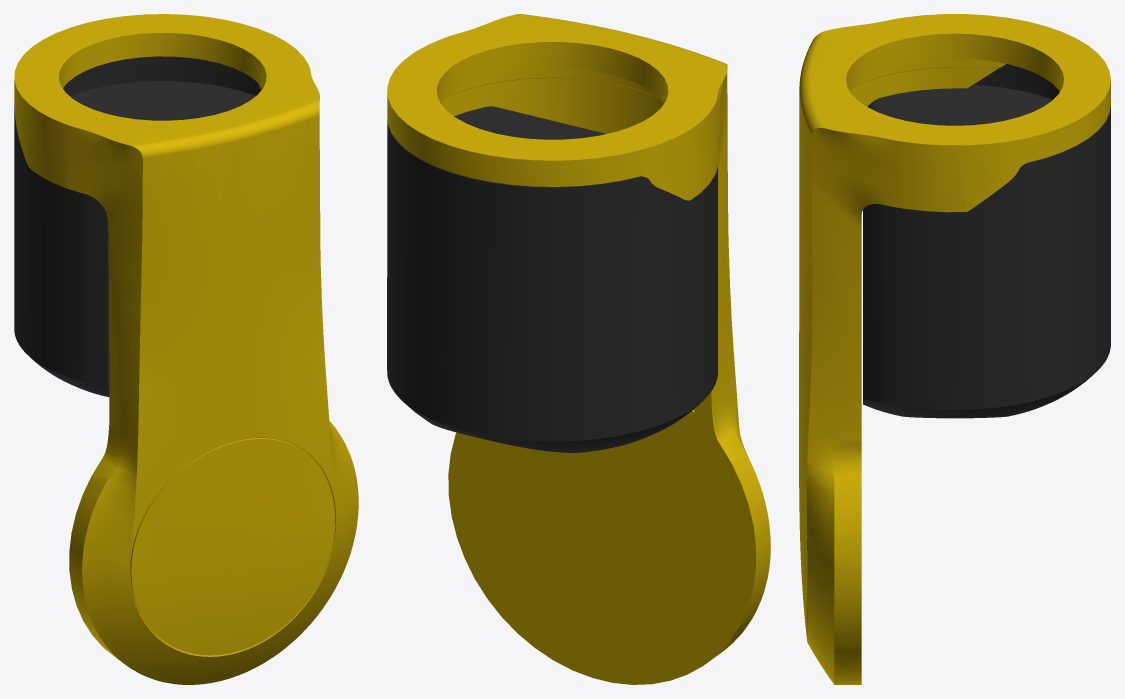
Rendered from arml4.glb.
3 renders of one model, left to right at view 1: azimuth 30°, elevation 25°; view 2: azimuth 150°, elevation 25°; view 3: azimuth 270°, elevation 25°, orthographic. The views are drawn at different scales.
Parts seen in each view (by area): view 1: Mesh_2.002, Mesh_0.003, Mesh_1.002; view 2: Mesh_2.002, Mesh_1.002; view 3: Mesh_2.002, Mesh_1.002, Mesh_0.003.
Boxes of the visible parts, box(x1,y1,x2,y2) form: Mesh_2.002: box(14, 14, 358, 684); Mesh_0.003: box(130, 438, 335, 655); Mesh_1.002: box(14, 56, 261, 396); Mesh_2.002: box(387, 14, 770, 684); Mesh_1.002: box(387, 106, 717, 452); Mesh_2.002: box(799, 14, 1110, 684); Mesh_1.002: box(863, 64, 1110, 418); Mesh_0.003: box(799, 412, 807, 640).
Bounding box in the file's own units: 0.086 × 0.167 × 0.0801.
